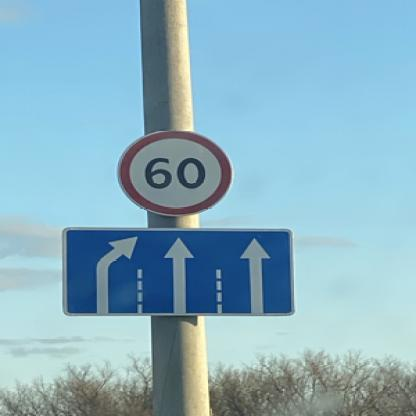Speed Limit 60: (119, 132, 231, 216)
